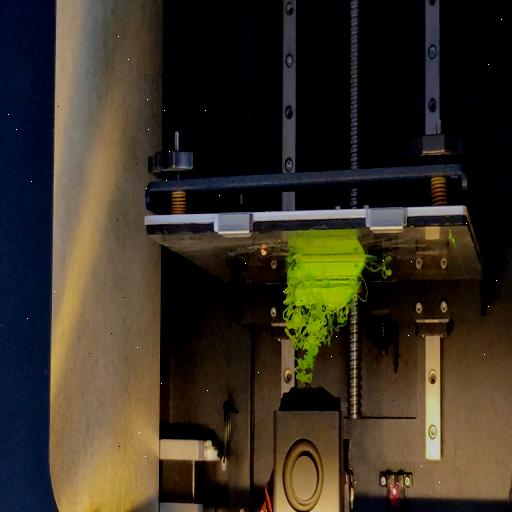spaghetti: (283, 301, 349, 389), (368, 266, 394, 280), (286, 252, 294, 296), (360, 274, 368, 304)
